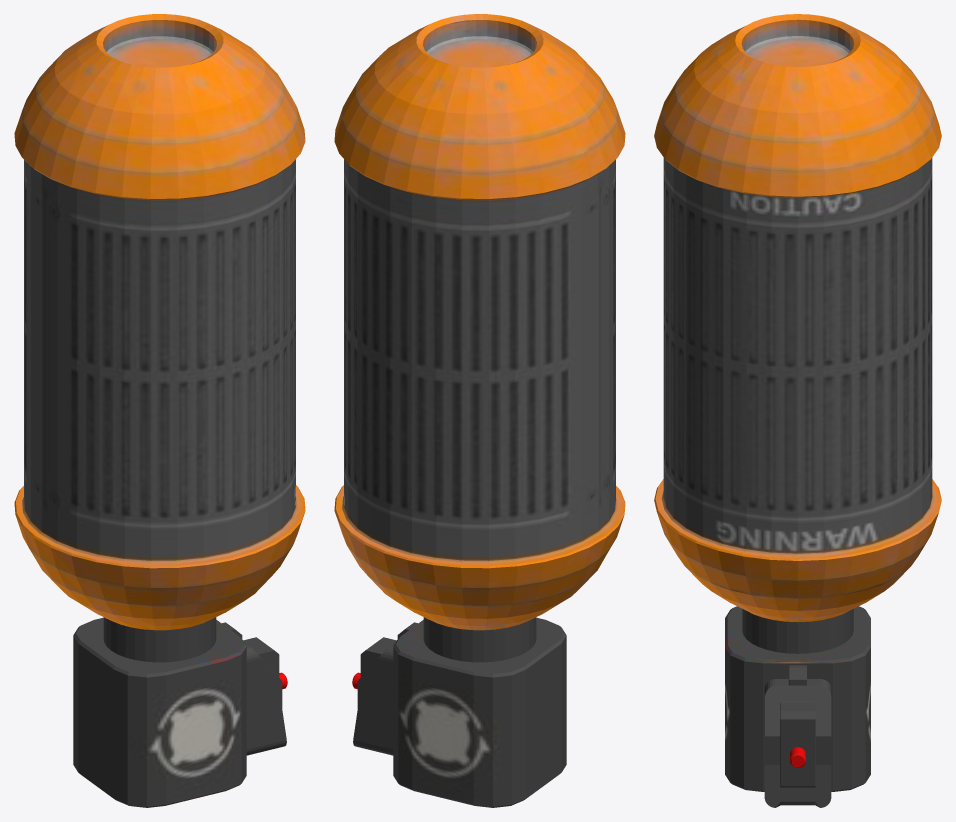
File: smoke.glb
3 renders of one model, left to right at view 1: azimuth 30°, elevation 25°; view 2: azimuth 150°, elevation 25°; view 3: azimuth 270°, elevation 25°, orthographic.
Visible parts, largest first — view 1: smoke; view 2: smoke; view 3: smoke.
Boxes of the visible parts, box(x1,y1,x2,y2) form: smoke: box(14, 14, 305, 807); smoke: box(334, 14, 625, 807); smoke: box(654, 14, 941, 807).
Size of the model in its own units: 0.0542 by 0.15 by 0.0542.
1 material, 1 textured.
